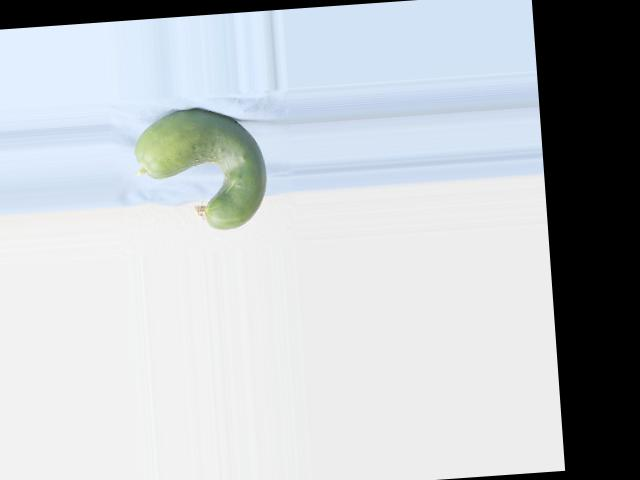cucumber: (131, 104, 270, 235)
